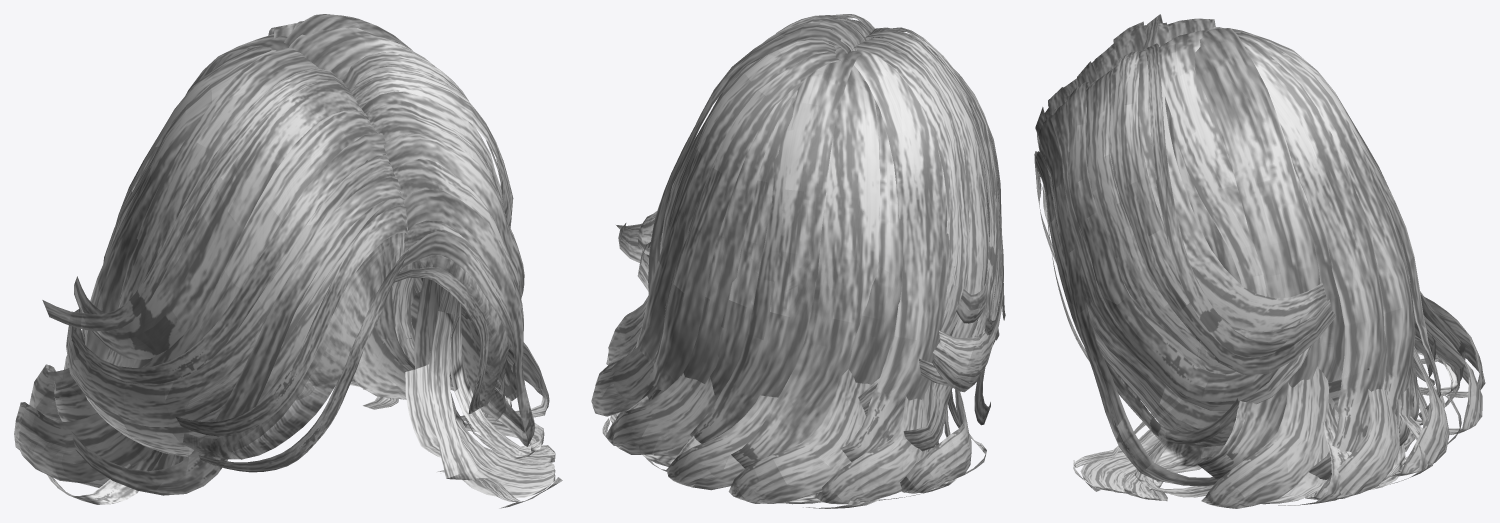
Rendered from daz_hair_ashley_wave.glb.
The picture shows the model from 3 angles, left to right: view 1: azimuth 30°, elevation 25°; view 2: azimuth 150°, elevation 25°; view 3: azimuth 270°, elevation 25°; orthographic projection. The views are drawn at different scales.
Parts seen in each view (by area): view 1: daz_hair_ashley_wave; view 2: daz_hair_ashley_wave; view 3: daz_hair_ashley_wave.
Part boxes in pixels (bbox=[...]): daz_hair_ashley_wave: bbox=[14, 14, 562, 508]; daz_hair_ashley_wave: bbox=[591, 14, 1005, 508]; daz_hair_ashley_wave: bbox=[1034, 14, 1485, 508].
Size of the model in its own units: 0.274 by 0.252 by 0.2629.
1 material, 1 textured.
